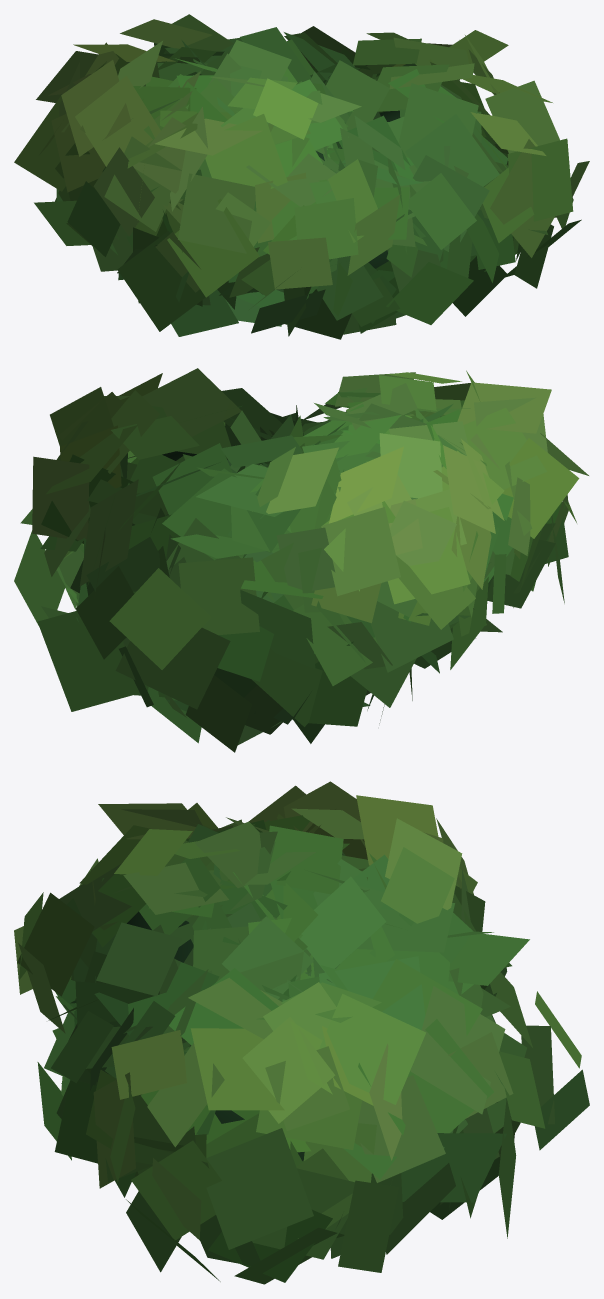
The model's file is bush_a.glb.
3 views of the same model, one above another, from view 1: azimuth 30°, elevation 25°; view 2: azimuth 150°, elevation 25°; view 3: azimuth 270°, elevation 25° (orthographic). The views are drawn at different scales.
Visible parts, largest first — view 1: LeafCards; view 2: LeafCards; view 3: LeafCards, Leaves.
Boxes of the visible parts, x1=… form: LeafCards: x1=14, y1=14, x2=589, y2=339; LeafCards: x1=14, y1=368, x2=588, y2=752; LeafCards: x1=14, y1=781, x2=589, y2=1284; Leaves: x1=127, y1=911, x2=304, y2=1160.
Size of the model in its own units: 2.29 by 1.36 by 2.08.
